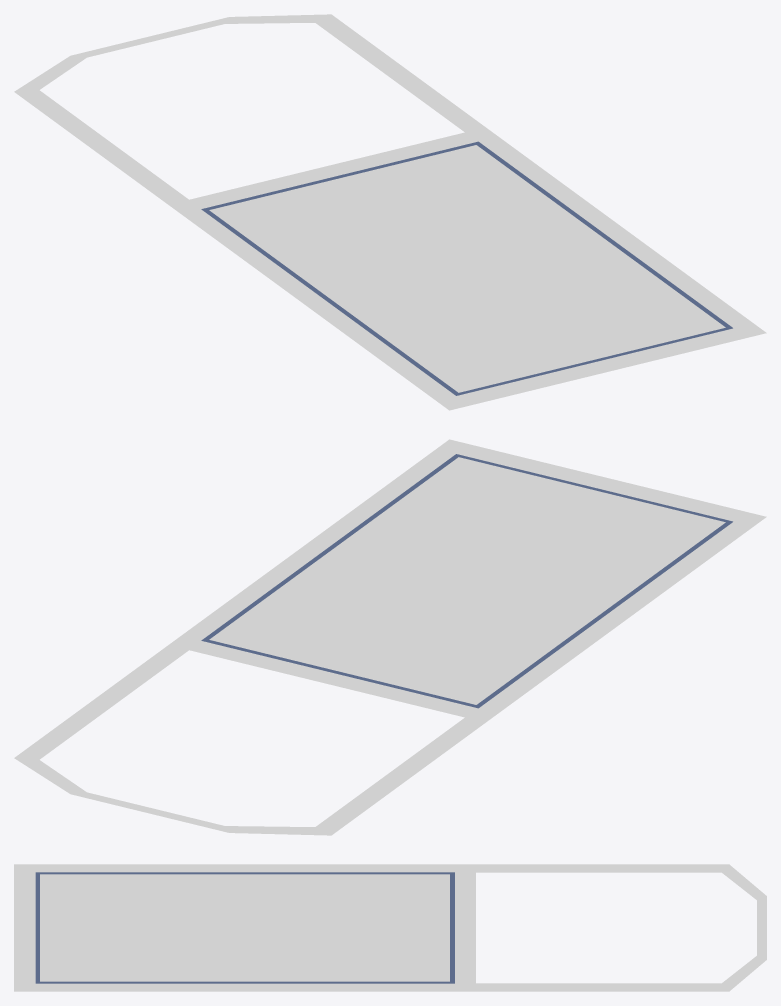
The model's file is Lift_03_Floor_Level_03.fbx.
The picture shows the model from 3 angles, top to bottom: view 1: azimuth 30°, elevation 25°; view 2: azimuth 150°, elevation 25°; view 3: azimuth 270°, elevation 25°; orthographic projection. The views are drawn at different scales.
Visible parts, largest first — view 1: Lift_03_Floor_Level_03; view 2: Lift_03_Floor_Level_03; view 3: Lift_03_Floor_Level_03.
Boxes of the visible parts, <box> form: Lift_03_Floor_Level_03: <box>14,14,766,410</box>; Lift_03_Floor_Level_03: <box>14,439,766,835</box>; Lift_03_Floor_Level_03: <box>14,864,766,991</box>.
Bounding box in the file's own units: 1600 × 0.000244 × 4000.
